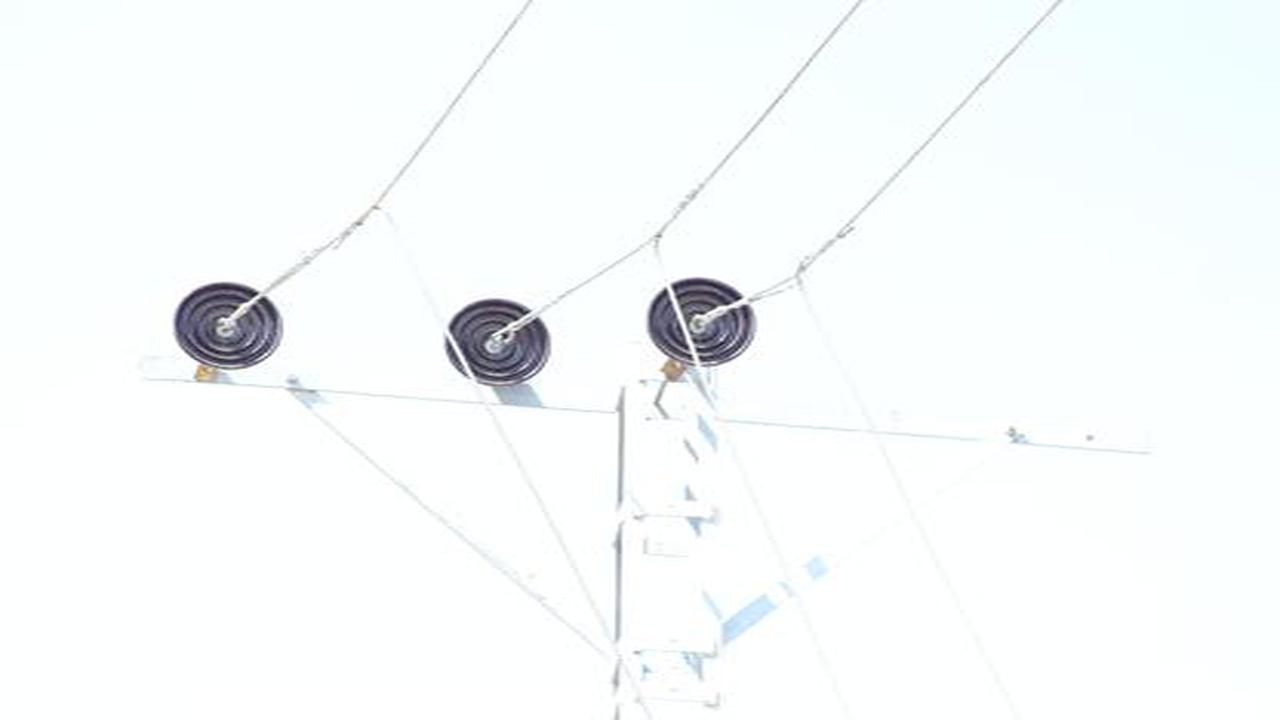insulator_disc: (644, 272, 763, 374), (437, 292, 560, 390), (169, 279, 288, 370)
